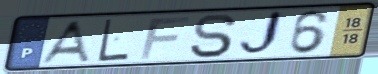6: (287, 8, 330, 56)
A: (36, 19, 93, 65)
F: (137, 15, 193, 61)
J: (236, 9, 287, 60)
L: (97, 17, 132, 64)
S: (186, 12, 239, 60)
